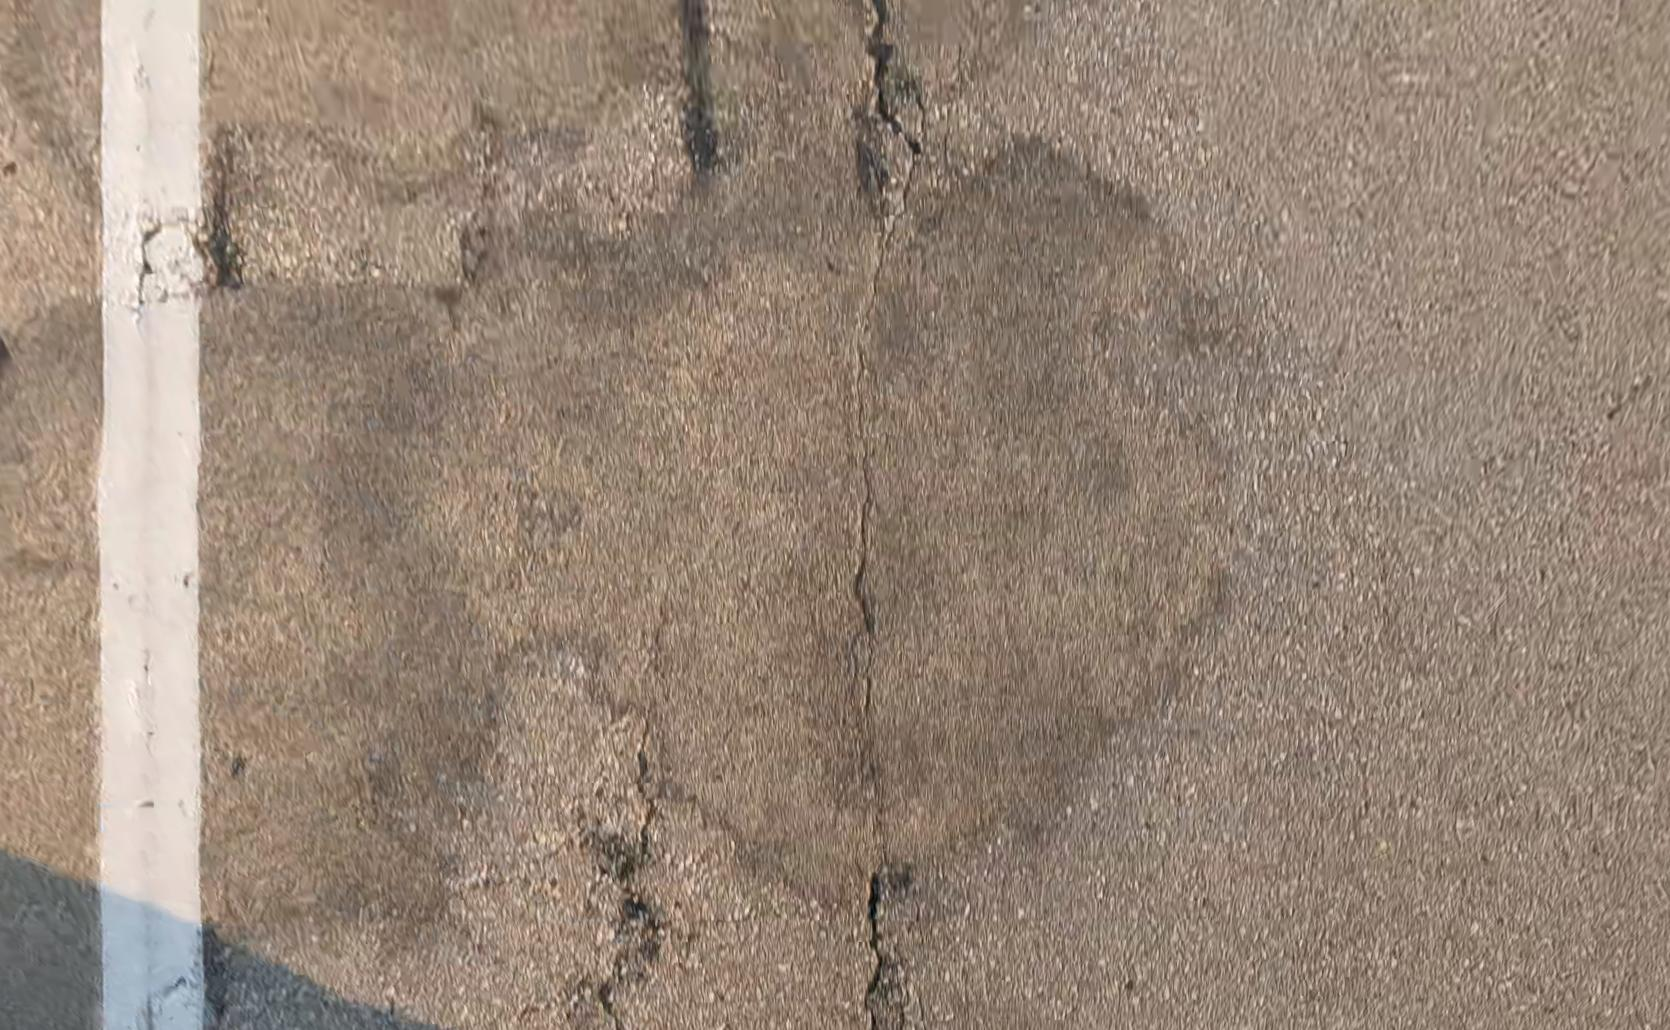pothole_patch_poor: (10, 128, 1221, 967)
